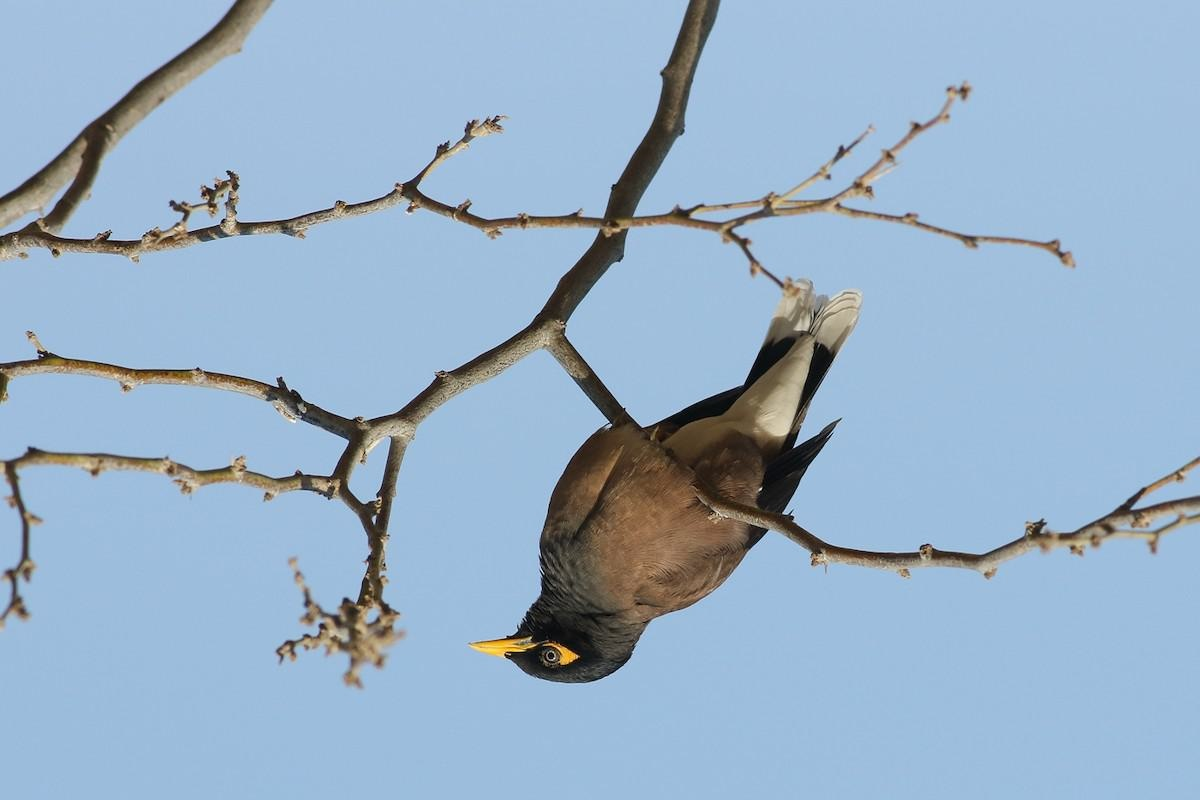myna: (474, 318, 885, 715)
